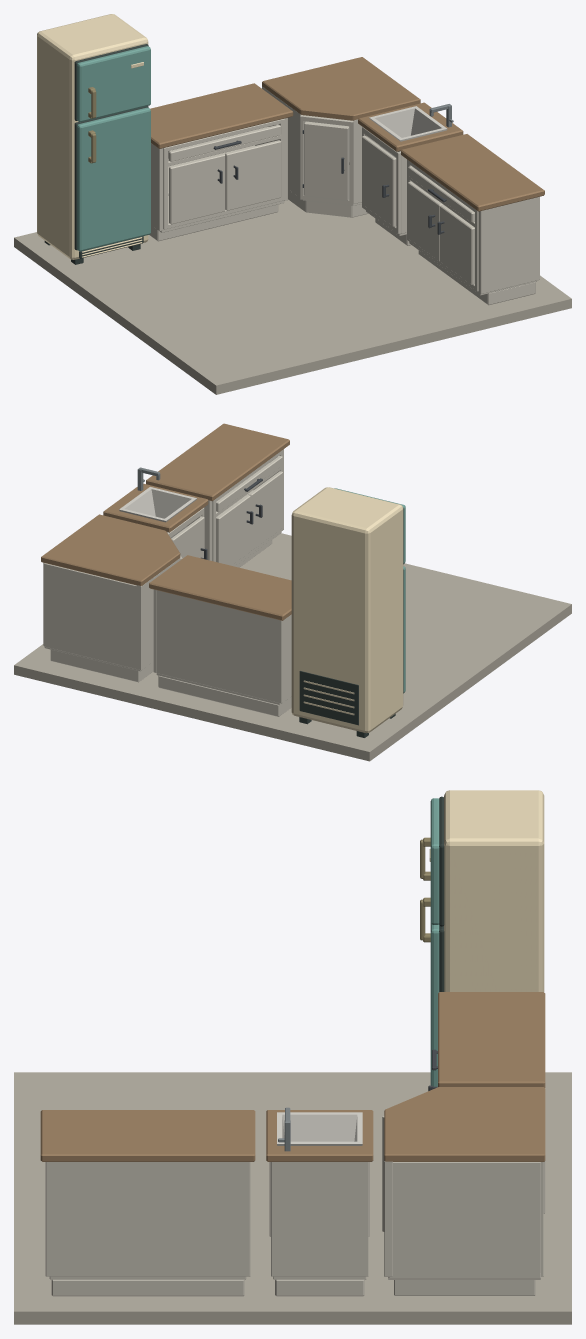
3 renders of one model, top to bottom at view 1: azimuth 30°, elevation 25°; view 2: azimuth 150°, elevation 25°; view 3: azimuth 270°, elevation 25°, orthographic. The views are drawn at different scales.
Parts seen in each view (by area): view 1: SCENE_ONLY__SupportFloor, fridge__Body_rounded_ivory_shell, fridge__Refrigerator_closed_front_face, corner__Corner complete countertop, prep_y__Countertop, prep_x__Countertop, prep_y__Side wall.001, fridge__Freezer_closed_front_face, corner__Fixed diagonal door, prep_x__Left door, prep_x__Right door, sink_y__Left door (+17 smaller); view 2: SCENE_ONLY__SupportFloor, fridge__Body_rounded_ivory_shell, prep_x__Rear panel, corner__Rear Y wall, corner__Corner complete countertop, prep_y__Countertop, prep_x__Countertop, fridge__Rear_service_cover, prep_y__Left door, prep_y__Right door, prep_x__Recessed plinth, sink_y__Thick open basin (+8 smaller); view 3: SCENE_ONLY__SupportFloor, prep_y__Rear panel, fridge__Body_rounded_ivory_shell, corner__Rear X wall, corner__Corner complete countertop, prep_y__Countertop, prep_x__Countertop, sink_y__Rear panel, prep_y__Recessed plinth, sink_y__Countertop with basin opening, sink_y__Thick open basin, corner__Corner recessed plinth (+10 smaller).
Boxes of the visible parts, x1,y1,x2,y2 form: SCENE_ONLY__SupportFloor: [14, 199, 571, 394]; fridge__Body_rounded_ivory_shell: [37, 14, 148, 259]; fridge__Refrigerator_closed_front_face: [77, 107, 150, 251]; corner__Corner complete countertop: [262, 57, 420, 120]; prep_y__Countertop: [401, 134, 544, 211]; prep_x__Countertop: [150, 83, 293, 148]; prep_y__Side wall.001: [478, 196, 539, 293]; fridge__Freezer_closed_front_face: [77, 46, 150, 122]; corner__Fixed diagonal door: [304, 122, 348, 200]; prep_x__Left door: [169, 154, 225, 224]; prep_x__Right door: [225, 140, 281, 210]; sink_y__Left door: [362, 135, 396, 226]; SCENE_ONLY__SupportFloor: [14, 533, 571, 761]; fridge__Body_rounded_ivory_shell: [291, 487, 403, 732]; prep_x__Rear panel: [157, 590, 278, 702]; corner__Rear Y wall: [44, 563, 136, 668]; corner__Corner complete countertop: [41, 514, 180, 585]; prep_y__Countertop: [146, 423, 289, 501]; prep_x__Countertop: [149, 555, 291, 620]; fridge__Rear_service_cover: [299, 671, 358, 725]; prep_y__Left door: [216, 495, 250, 565]; prep_y__Right door: [248, 471, 282, 550]; prep_x__Recessed plinth: [158, 675, 291, 716]; sink_y__Thick open basin: [119, 487, 196, 537]; SCENE_ONLY__SupportFloor: [14, 1072, 571, 1324]; prep_y__Rear panel: [51, 1162, 244, 1276]; fridge__Body_rounded_ivory_shell: [444, 790, 544, 992]; corner__Rear X wall: [388, 1162, 540, 1278]; corner__Corner complete countertop: [384, 1087, 545, 1161]; prep_y__Countertop: [40, 1110, 255, 1161]; prep_x__Countertop: [438, 992, 545, 1087]; sink_y__Rear panel: [276, 1162, 362, 1276]; prep_y__Recessed plinth: [51, 1279, 244, 1296]; sink_y__Countertop with basin opening: [266, 1110, 373, 1161]; sink_y__Thick open basin: [277, 1112, 362, 1145]; corner__Corner recessed plinth: [394, 1280, 535, 1295].
Bounding box in the file's own units: 3.17 × 1.88 × 3.12.
